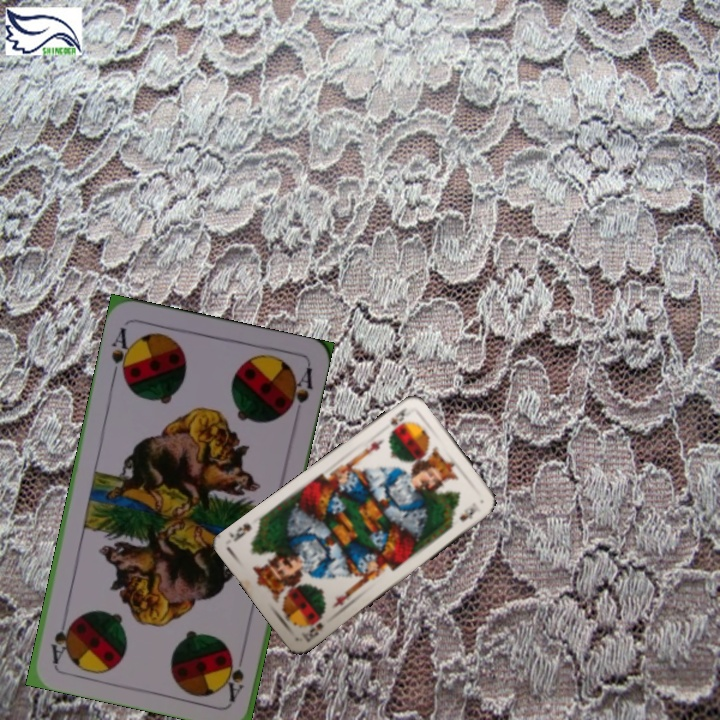SA: (107, 323, 135, 383), (223, 645, 248, 704)
SK: (384, 403, 410, 436), (297, 619, 326, 645)
